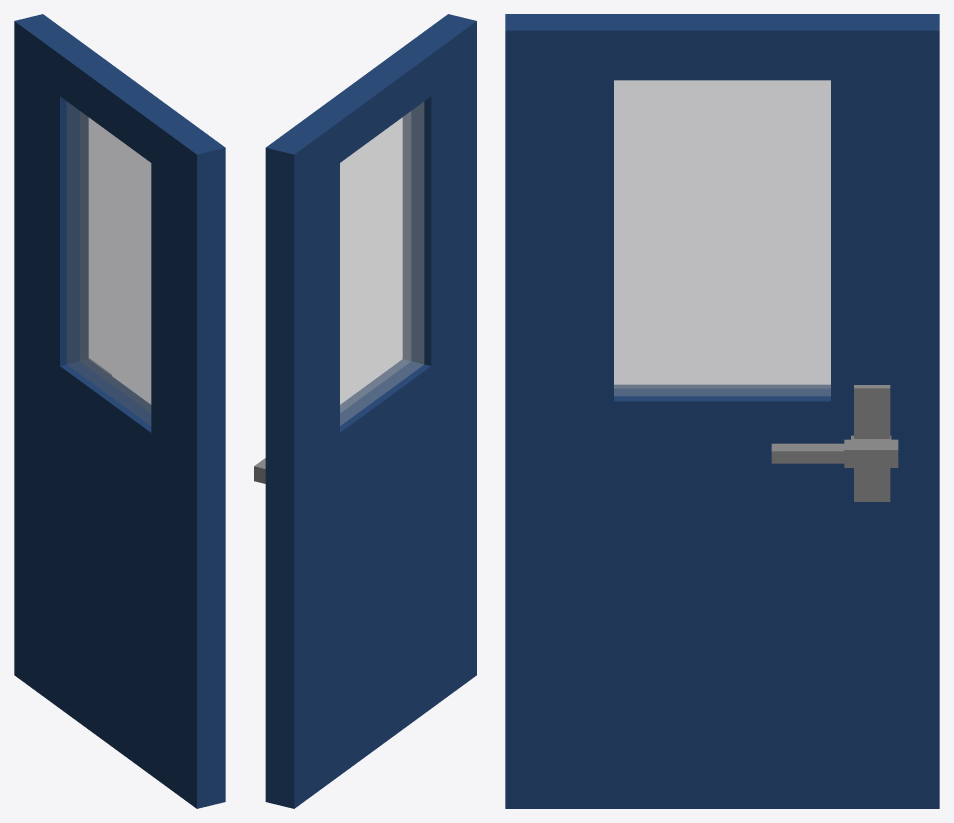
Rendered from Porta_Vidro.fbx.
3 views of the same model, side by side, from view 1: azimuth 30°, elevation 25°; view 2: azimuth 150°, elevation 25°; view 3: azimuth 270°, elevation 25° (orthographic). The views are drawn at different scales.
Parts seen in each view (by area): view 1: Cubo.021; view 2: Cubo.021; view 3: Cubo.021.
Part boxes in pixels (<box>): Cubo.021: <box>14,14,225,808</box>; Cubo.021: <box>254,14,476,808</box>; Cubo.021: <box>505,14,939,808</box>.
Bounding box in the file's own units: 36.5 × 395 × 200.
